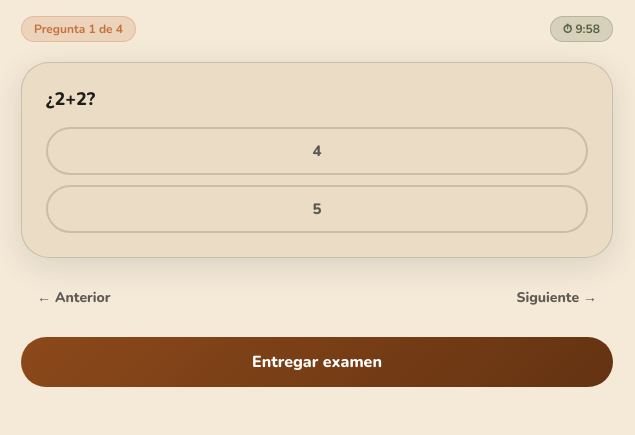
Scenario: UserAttemptView › freezes answering and shows a banner on an ATTEMPT_EXPIRED answer error
The image size is (635, 435).
Click the button "4". click: [317, 151]
box: [46, 127, 588, 175]
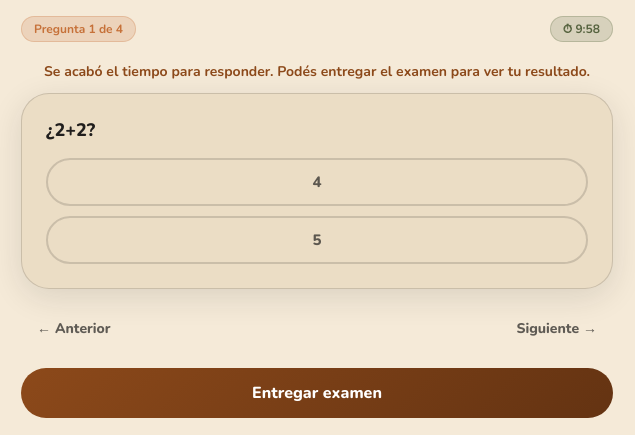
Result: the message with class "error-msg" is shown at [21, 62, 613, 81]
Result: the button "4" is disabled at [46, 158, 588, 206]
